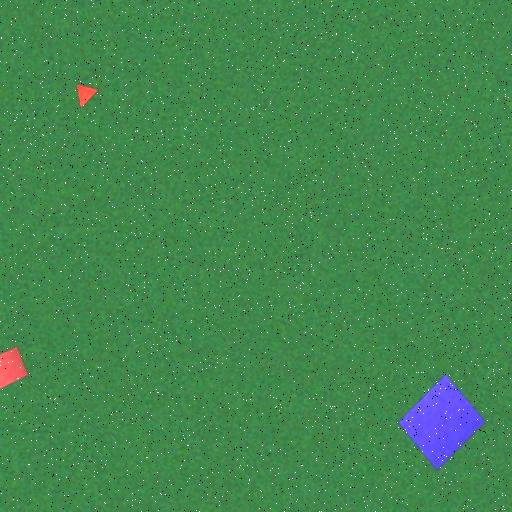BLUE_SQUARE: (398, 374, 486, 471)
RED_SQUARE: (0, 346, 29, 390)
